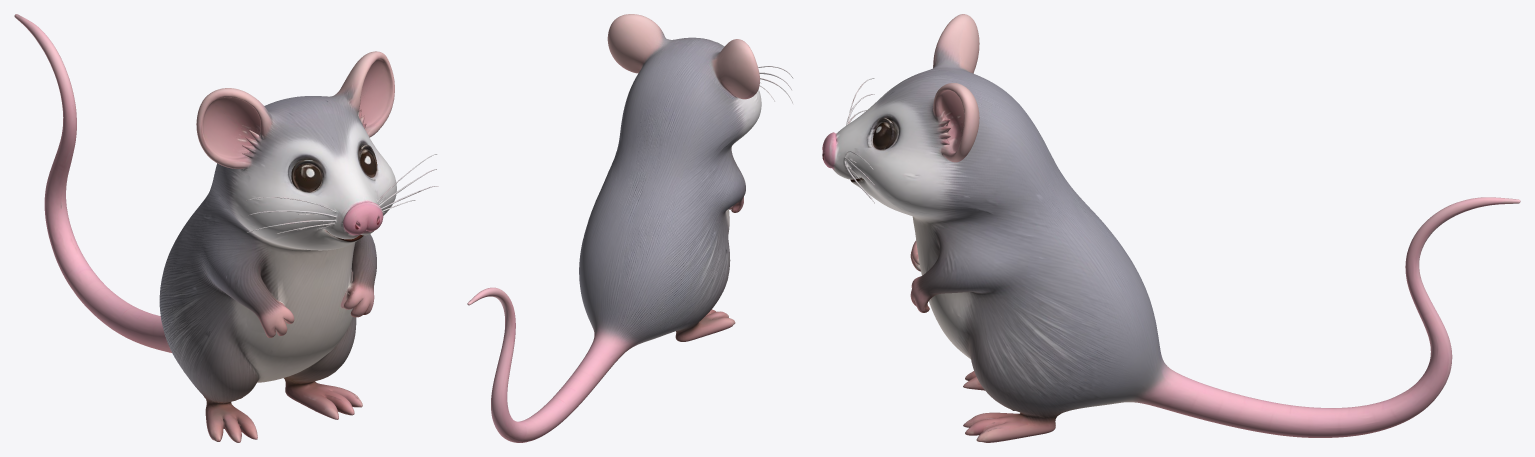
File: C05_possum_hy.glb
3 renders of one model, left to right at view 1: azimuth 30°, elevation 25°; view 2: azimuth 150°, elevation 25°; view 3: azimuth 270°, elevation 25°, orthographic. The views are drawn at different scales.
Visible parts, largest first — view 1: C05_possum_hy; view 2: C05_possum_hy; view 3: C05_possum_hy.
Boxes of the visible parts, box(x1,y1,x2,y2) form: C05_possum_hy: box(14, 14, 438, 442); C05_possum_hy: box(467, 14, 793, 442); C05_possum_hy: box(822, 14, 1520, 442).
Size of the model in its own units: 0.3686 by 0.6991 by 1.15.
1 material, 1 textured.
